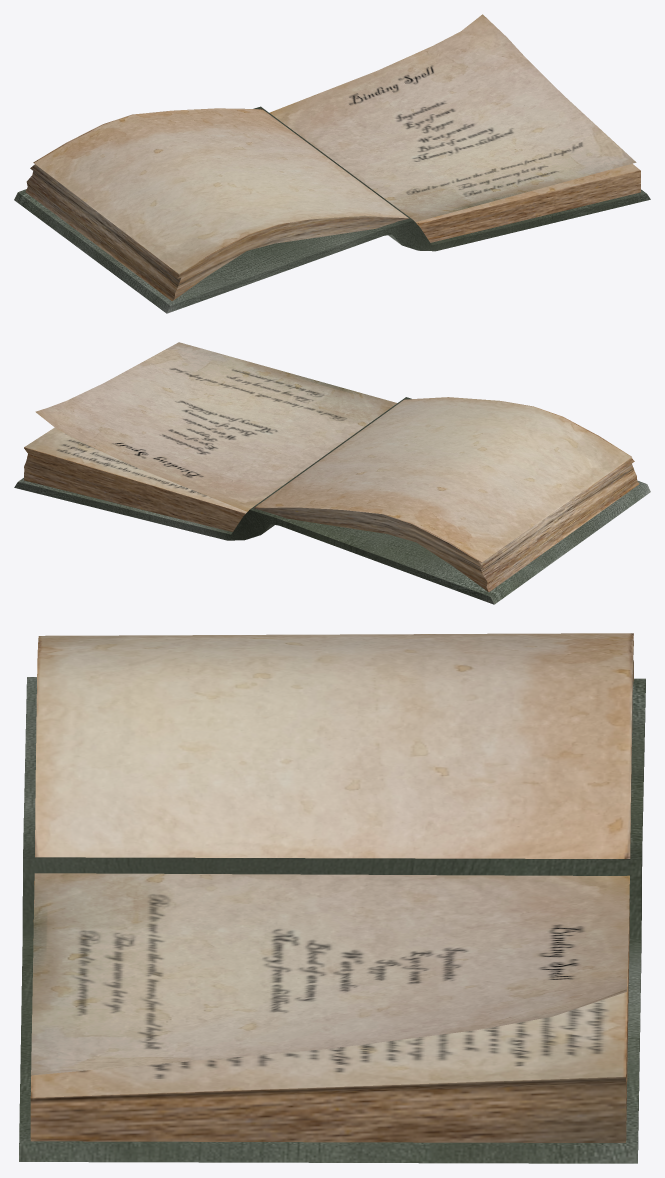
File: GenericProp-Book.fbx
The picture shows the model from 3 angles, top to bottom: view 1: azimuth 30°, elevation 25°; view 2: azimuth 150°, elevation 25°; view 3: azimuth 270°, elevation 25°; orthographic projection. The views are drawn at different scales.
Parts seen in each view (by area): view 1: Book; view 2: Book; view 3: Book.
Part boxes in pixels (bbox=[...]): Book: bbox=[14, 14, 650, 313]; Book: bbox=[14, 342, 650, 604]; Book: bbox=[19, 633, 645, 1163].
Bounding box in the file's own units: 72.7 × 11.23 × 40.76.
